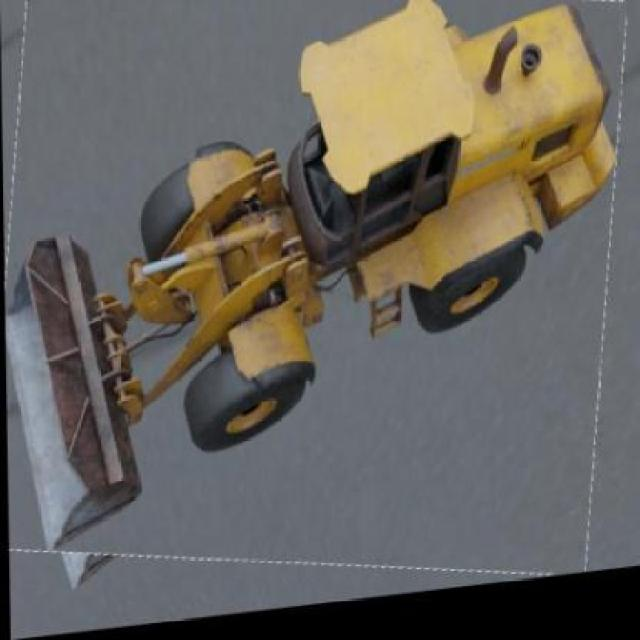buldozerpayloadergrader: (5, 0, 617, 546)
